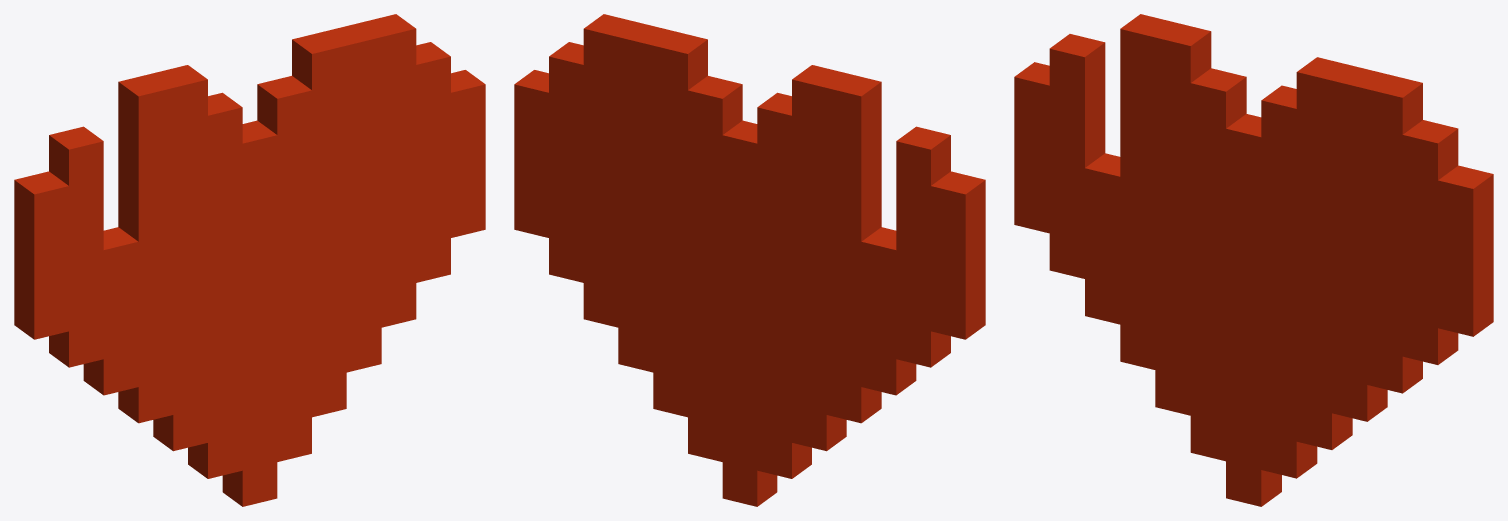
3 views of the same model, side by side, from view 1: azimuth 30°, elevation 25°; view 2: azimuth 150°, elevation 25°; view 3: azimuth 330°, elevation 25° (orthographic).
Parts seen in each view (by area): view 1: Cube_133, Cube_104, Cube_118, Cube_124, Cube_138, Cube_120, Cube_107, Cube_94, Cube_65, Cube_78, Cube_91, Cube_139 (+88 smaller); view 2: Cube_133, Cube_104, Cube_118, Cube_124, Cube_138, Cube_120, Cube_107, Cube_94, Cube_65, Cube_78, Cube_91, Cube_139 (+88 smaller); view 3: Cube_118, Cube_134, Cube_122, Cube_128, Cube_140, Cube_116, Cube_92, Cube_105, Cube_77, Cube_103, Cube_90, Cube_138 (+88 smaller).
Boxes of the visible parts, <box> form: Cube_133: <box>118,73,173,132</box>; Cube_104: <box>14,171,68,230</box>; Cube_118: <box>49,126,103,185</box>; Cube_124: <box>257,76,311,134</box>; Cube_138: <box>292,31,346,90</box>; Cube_120: <box>118,118,173,168</box>; Cube_107: <box>118,154,173,205</box>; Cube_94: <box>118,191,173,241</box>; Cube_65: <box>14,289,68,339</box>; Cube_78: <box>14,253,68,303</box>; Cube_91: <box>14,216,68,266</box>; Cube_139: <box>327,22,381,81</box>; Cube_133: <box>826,73,881,132</box>; Cube_104: <box>931,171,985,230</box>; Cube_118: <box>896,126,950,185</box>; Cube_124: <box>688,76,742,134</box>; Cube_138: <box>653,31,707,90</box>; Cube_120: <box>826,118,881,168</box>; Cube_107: <box>826,154,881,205</box>; Cube_94: <box>826,191,881,241</box>; Cube_65: <box>931,289,985,339</box>; Cube_78: <box>931,253,985,303</box>; Cube_91: <box>931,216,985,266</box>; Cube_139: <box>618,22,672,81</box>; Cube_118: <box>1049,34,1105,93</box>; Cube_134: <box>1155,22,1211,82</box>; Cube_122: <box>1190,68,1246,128</box>; Cube_128: <box>1402,120,1458,180</box>; Cube_140: <box>1367,74,1422,134</box>; Cube_116: <box>1438,165,1493,225</box>; Cube_92: <box>1049,116,1105,167</box>; Cube_105: <box>1049,79,1105,130</box>; Cube_77: <box>1438,285,1493,336</box>; Cube_103: <box>1438,211,1493,262</box>; Cube_90: <box>1438,248,1493,299</box>; Cube_138: <box>1296,57,1351,117</box>.
Bounding box in the file's own units: 985 × 910 × 75.8.
